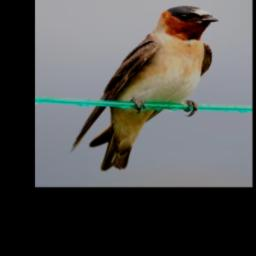Swallow: (70, 5, 219, 171)
